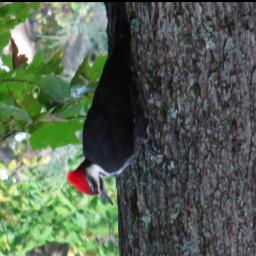Woodpecker: (64, 3, 163, 206)
